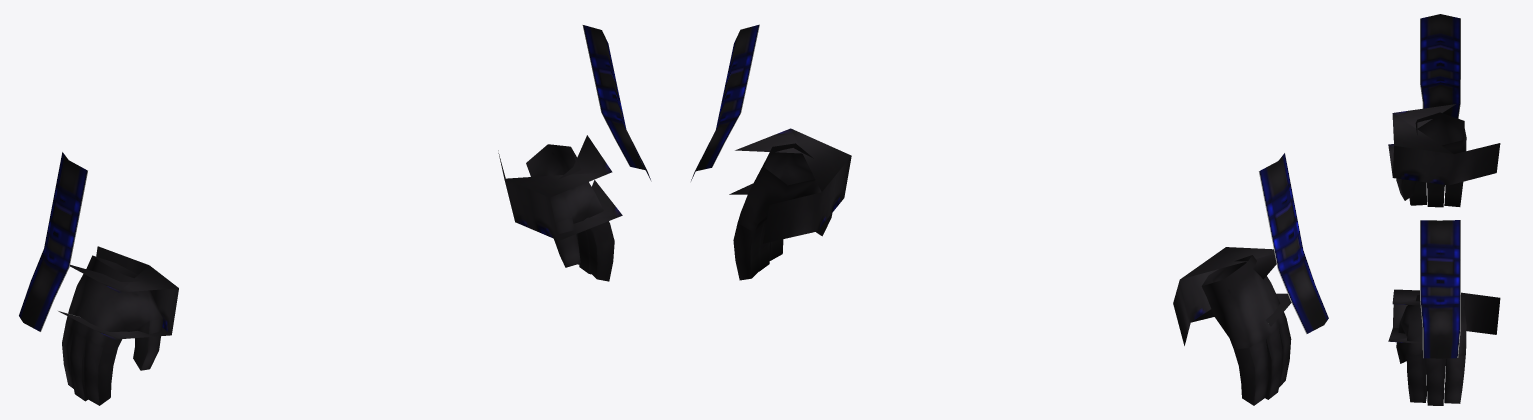
Rendered from hum_caster_05_fedbee36.glb.
3 renders of one model, left to right at view 1: azimuth 30°, elevation 25°; view 2: azimuth 150°, elevation 25°; view 3: azimuth 270°, elevation 25°, orthographic. The views are drawn at different scales.
Size of the model in its own units: 2.02 by 0.7351 by 0.5537.
Materials: 1 (1 with a texture image).
